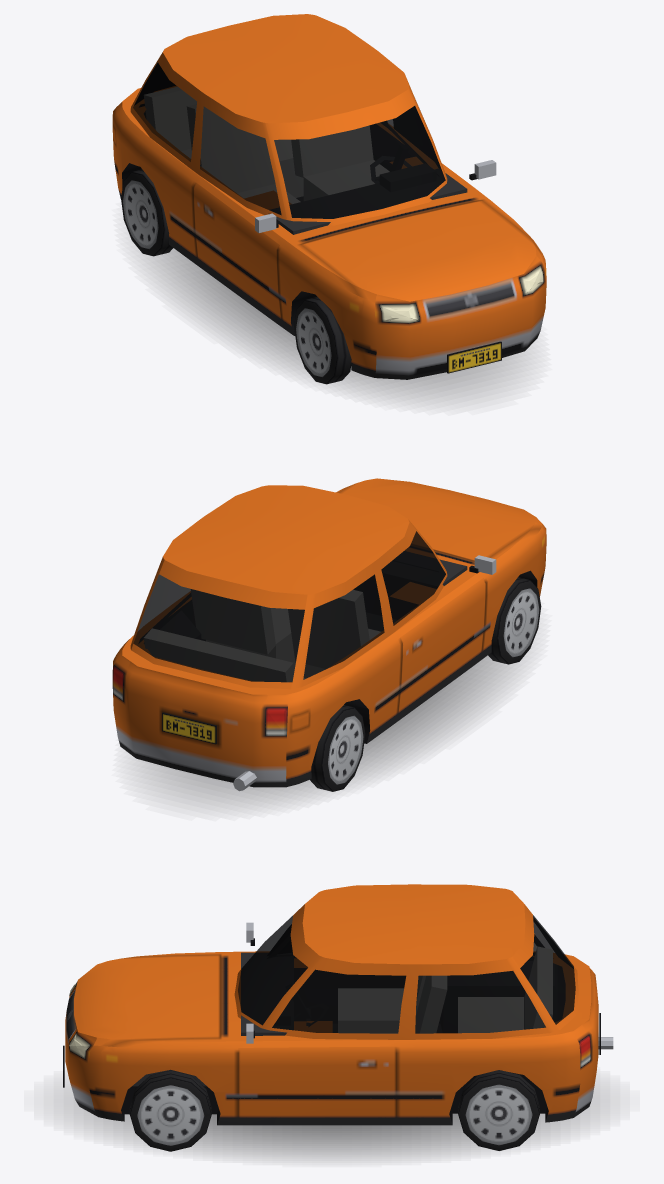
The model's file is bombom.glb.
3 views of the same model, one above another, from view 1: azimuth 30°, elevation 25°; view 2: azimuth 150°, elevation 25°; view 3: azimuth 270°, elevation 25° (orthographic). The views are drawn at different scales.
Parts seen in each view (by area): view 1: Carroceria, Interior, Capo_malha, Porta_D_malha, Sombra, Roda_DD, Roda_TD, Porta_E_malha; view 2: Carroceria, Tampa_malha, Interior, Porta_D_malha, Sombra, Capo_malha, Roda_TD, Roda_DD, Lanterna; view 3: Carroceria, Porta_E_malha, Interior, Capo_malha, Sombra, Tampa_malha, Roda_DE, Roda_TE.
Boxes of the visible parts, box(x1,y1,x2,y2) form: Carroceria: box(112, 14, 546, 379); Interior: box(140, 87, 467, 296); Capo_malha: box(300, 200, 542, 302); Porta_D_malha: box(193, 98, 286, 317); Sombra: box(140, 248, 526, 400); Roda_DD: box(294, 297, 351, 384); Roda_TD: box(121, 169, 172, 256); Porta_E_malha: box(393, 78, 496, 180); Carroceria: box(112, 481, 546, 791); Tampa_malha: box(125, 560, 307, 765); Interior: box(139, 551, 467, 681); Porta_D_malha: box(384, 521, 496, 712); Sombra: box(138, 656, 517, 806); Capo_malha: box(338, 478, 542, 560); Roda_TD: box(310, 705, 365, 791); Roda_DD: box(488, 577, 541, 664); Lanterna: box(113, 669, 285, 733); Carroceria: box(63, 884, 613, 1125); Porta_E_malha: box(238, 957, 396, 1116); Interior: box(132, 935, 564, 1086); Capo_malha: box(80, 954, 220, 1046); Sombra: box(63, 1088, 600, 1158); Tampa_malha: box(512, 904, 600, 1088); Roda_DE: box(129, 1070, 211, 1151); Roda_TE: box(458, 1070, 539, 1150).
Size of the model in its own units: 2.21 by 1.38 by 4.34.
Materials: 12 (6 with a texture image).
